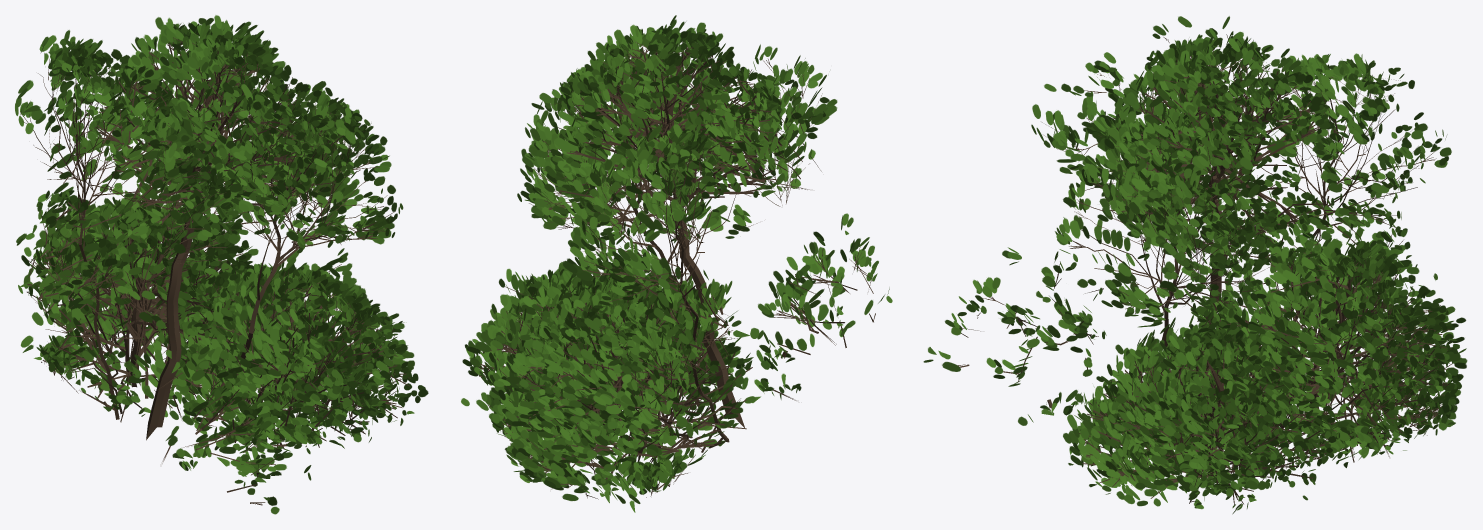
The picture shows the model from 3 angles, left to right: view 1: azimuth 30°, elevation 25°; view 2: azimuth 150°, elevation 25°; view 3: azimuth 270°, elevation 25°; orthographic projection.
Parts seen in each view (by area): view 1: oak 01.001_trunk_Mat.001_0.300; view 2: oak 01.001_trunk_Mat.001_0.300; view 3: oak 01.001_trunk_Mat.001_0.300.
Boxes of the visible parts, left/top/right/bottom form: oak 01.001_trunk_Mat.001_0.300: left=15, top=15, right=428, bottom=514; oak 01.001_trunk_Mat.001_0.300: left=461, top=15, right=892, bottom=512; oak 01.001_trunk_Mat.001_0.300: left=923, top=16, right=1467, bottom=514.
Bounding box in the file's own units: 2.97 × 3.95 × 4.7.
2 materials, 1 textured.
